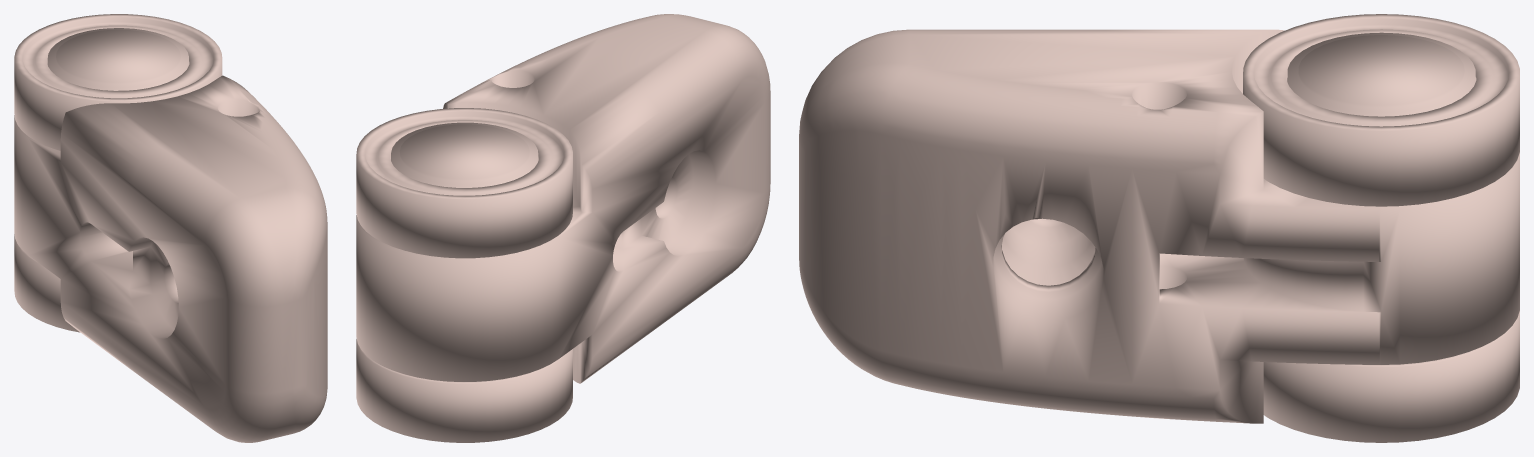
Rendered from middle_tip_1.obj.
The picture shows the model from 3 angles, left to right: view 1: azimuth 30°, elevation 25°; view 2: azimuth 150°, elevation 25°; view 3: azimuth 270°, elevation 25°; orthographic projection. The views are drawn at different scales.
Bounding box in the file's own units: 10.02 × 12.6 × 25.99.
